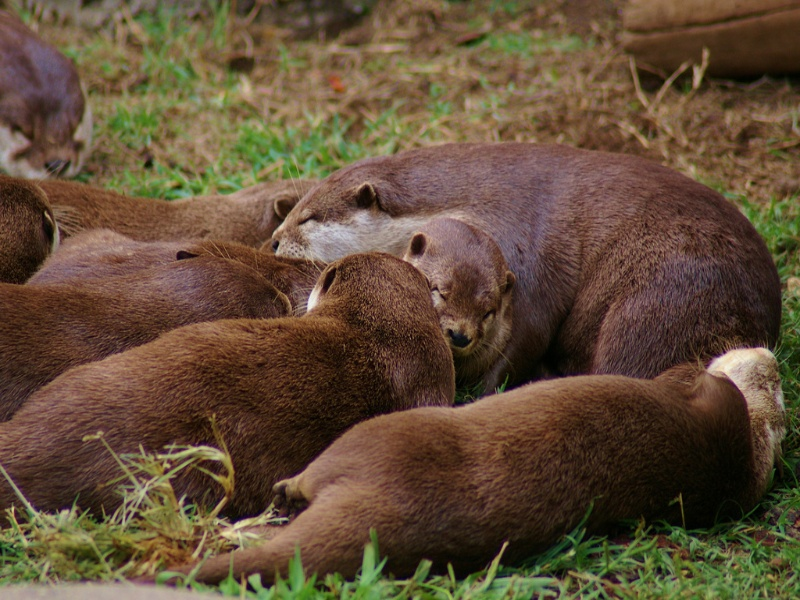minkish: (179, 367, 749, 595), (266, 143, 799, 381), (14, 251, 453, 516), (26, 219, 506, 352), (3, 176, 322, 268), (1, 15, 89, 183)
